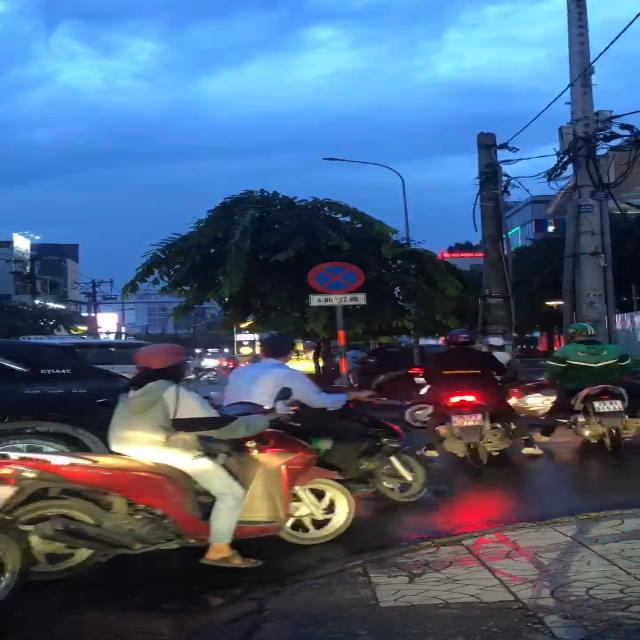Bien bao cam dung xe va do xe: (300, 259, 370, 295)
